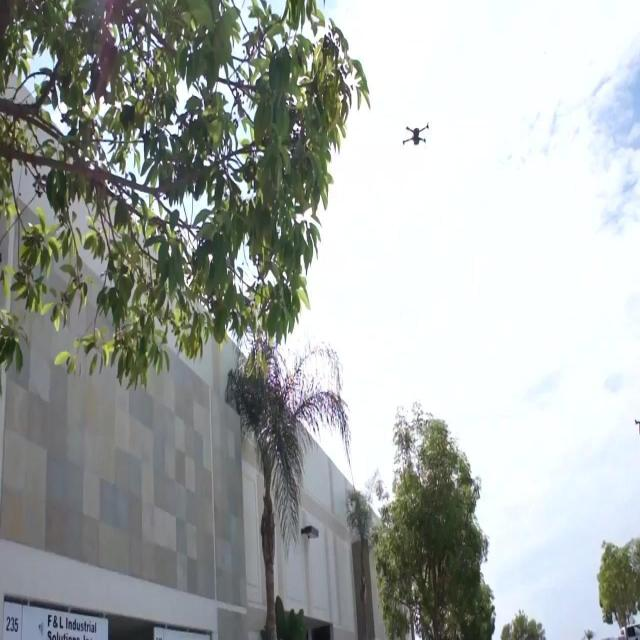drone: (400, 122, 431, 151)
